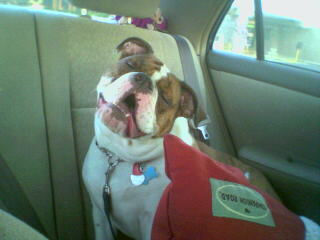dog: (80, 37, 320, 240)
